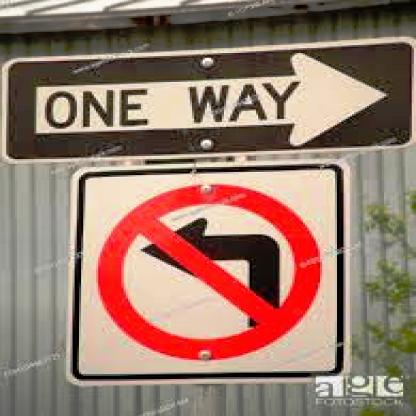No left turn: (68, 174, 334, 384)
